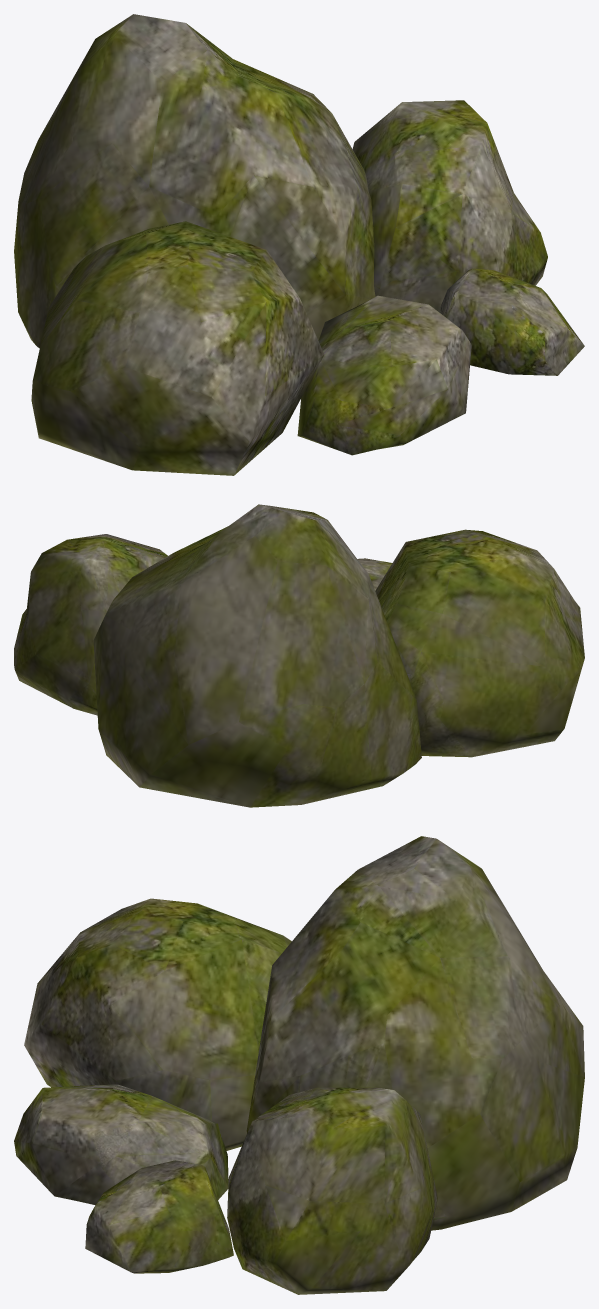
The model's file is rock-cluster-01.glb.
The picture shows the model from 3 angles, top to bottom: view 1: azimuth 30°, elevation 25°; view 2: azimuth 150°, elevation 25°; view 3: azimuth 270°, elevation 25°; orthographic projection. The views are drawn at different scales.
Bounding box in the file's own units: 0.9575 × 0.4839 × 0.8555.
Materials: 1 (1 with a texture image).
